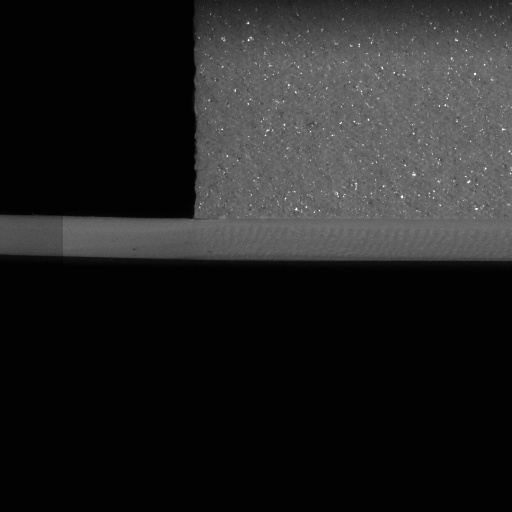changdai: (0, 211, 194, 263)
